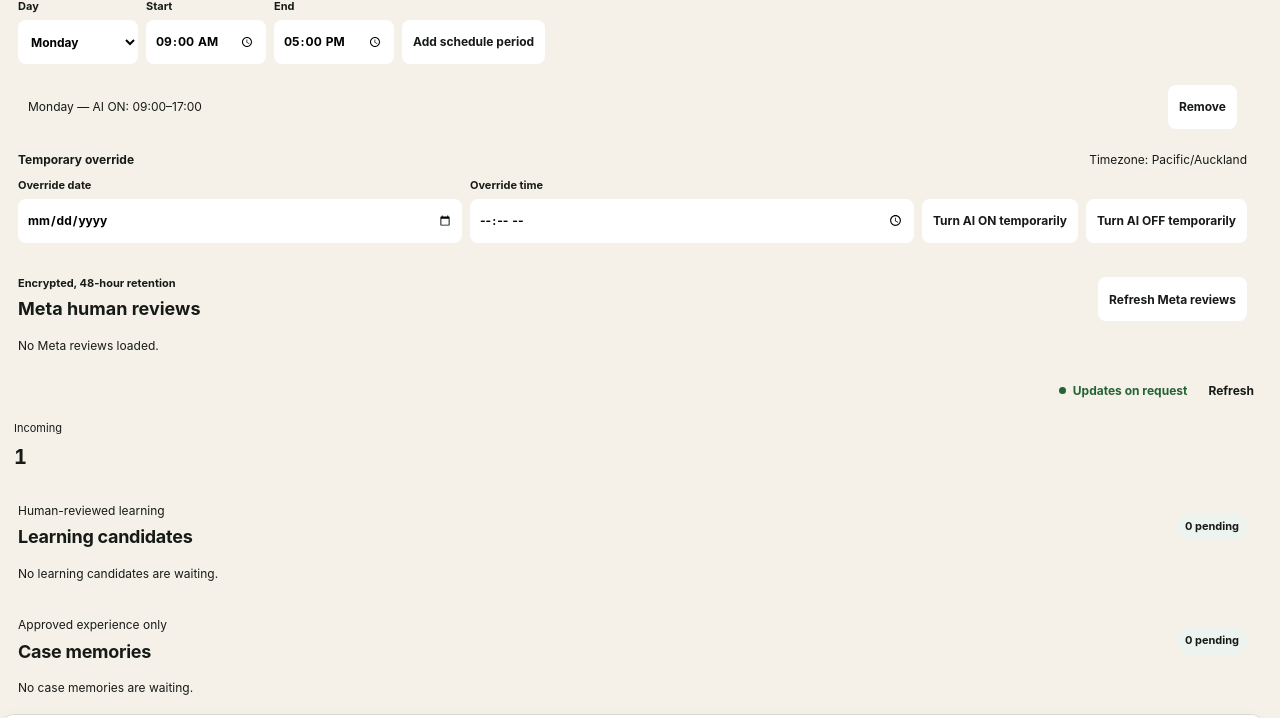
Test: ReplyAssistantLiveDashboard › manually refreshes incremental updates and renders new messages, drafts, gate blocks, outbound replies, and learning changes
(page scrolled)
Click the button with aria-label "Refresh conversations": {"x": 1231, "y": 390} [1197,373,1265,407]
(page scrolled)
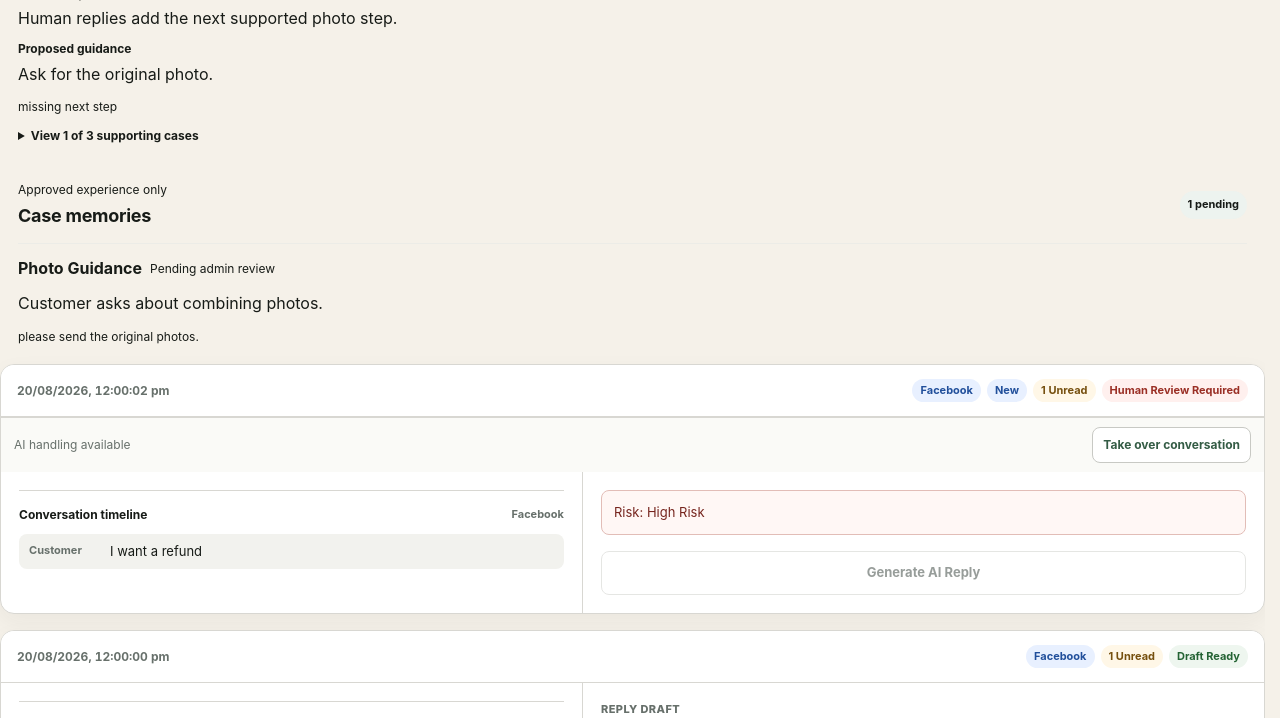
Expected: the text "I want a refund" is shown, [110,543,202,559]
Expected: the text "Risk: high risk" is shown, [601,490,1246,535]
Expected: the text "Ask for the original photo." is shown, [18,64,213,84]
